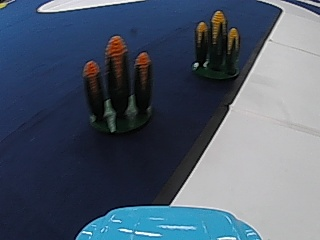corn: (83, 38, 154, 136), (191, 9, 242, 80)
